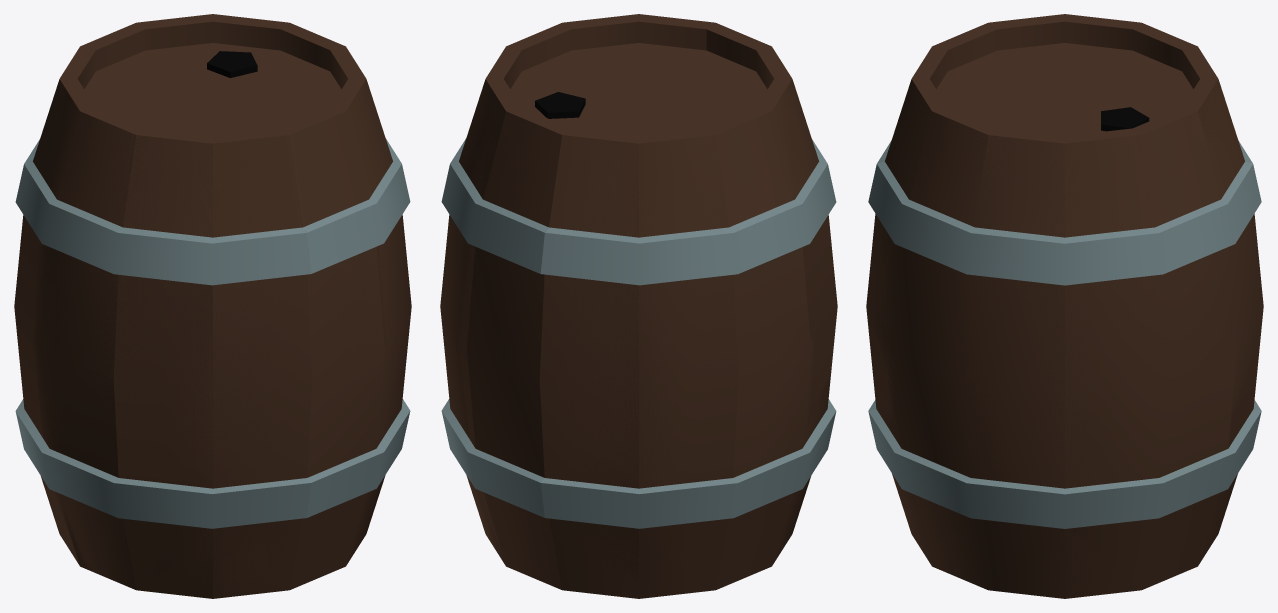
The model's file is barrel.fbx.
The picture shows the model from 3 angles, left to right: view 1: azimuth 30°, elevation 25°; view 2: azimuth 150°, elevation 25°; view 3: azimuth 270°, elevation 25°; orthographic projection.
Visible parts, largest first — view 1: Cylinder; view 2: Cylinder; view 3: Cylinder.
Part boxes in pixels (box(x1,y1,x2,y2)): Cylinder: box(14, 14, 411, 598); Cylinder: box(440, 14, 837, 598); Cylinder: box(866, 14, 1263, 598).
Bounding box in the file's own units: 71.21 × 90 × 71.21.
